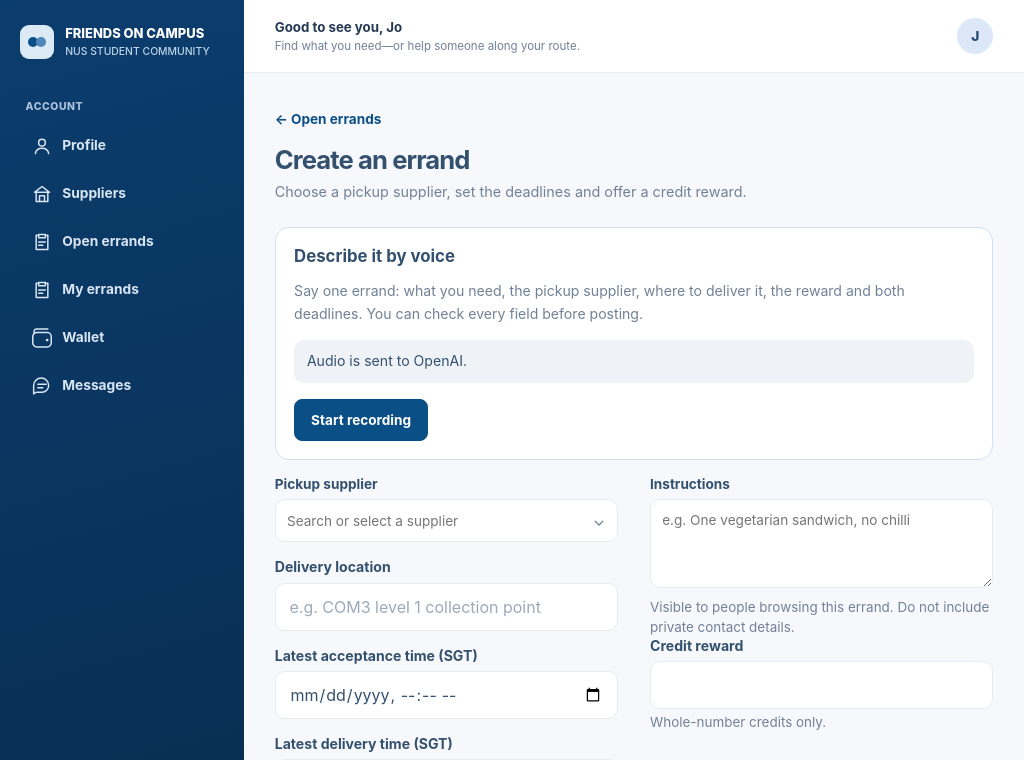
Voice drafting on the errand form › asks before a new recording replaces typed details
Type "UTown" into the field labelled "Delivery location".
click(446, 607); type("UTown")  # box [275,583,618,631]
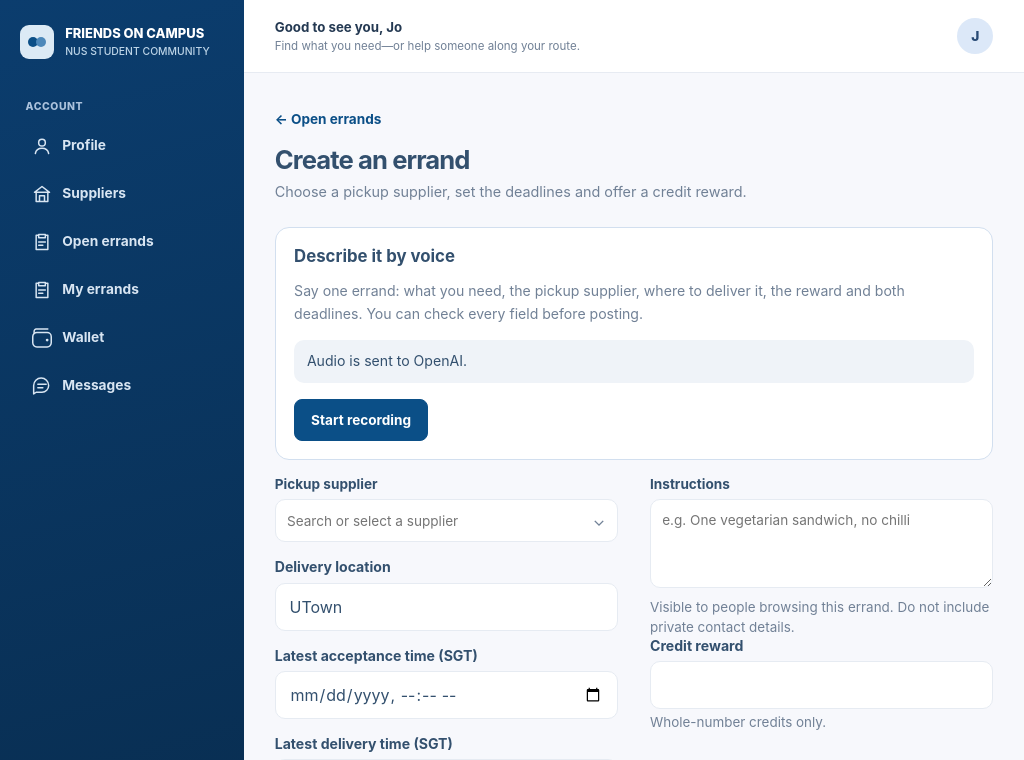
Click the button "Start recording".
click(361, 420)  # box [294,399,428,441]
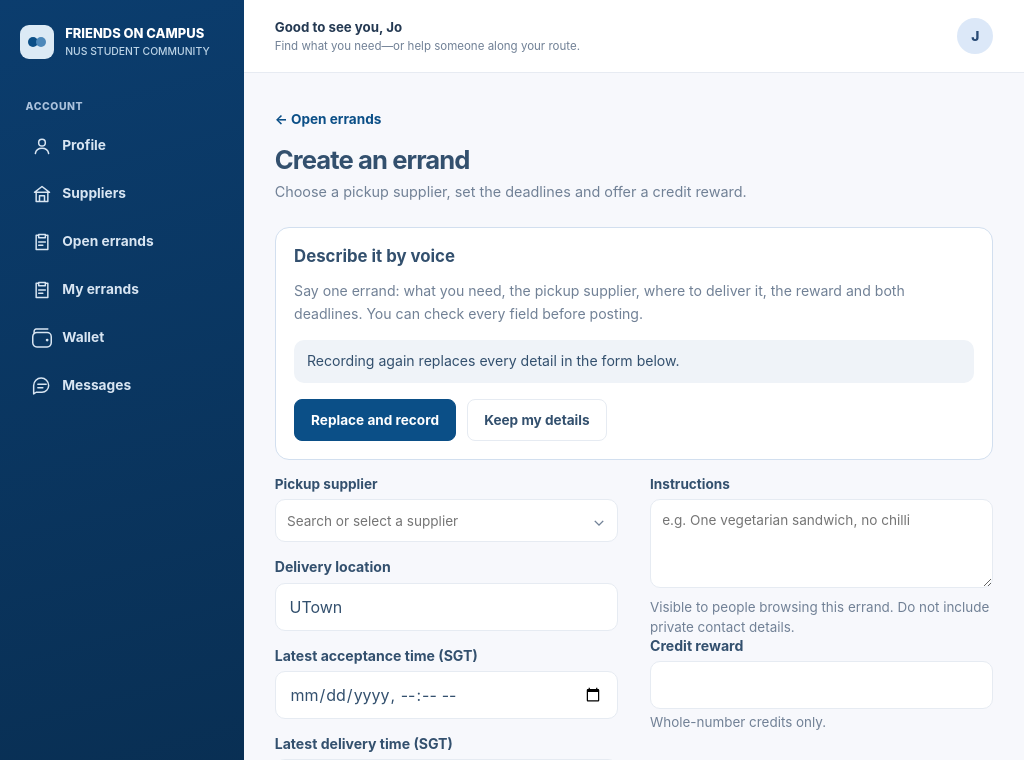
Now the text "Recording again replaces every detail in the form below." is shown, box [294,340,974,383]
